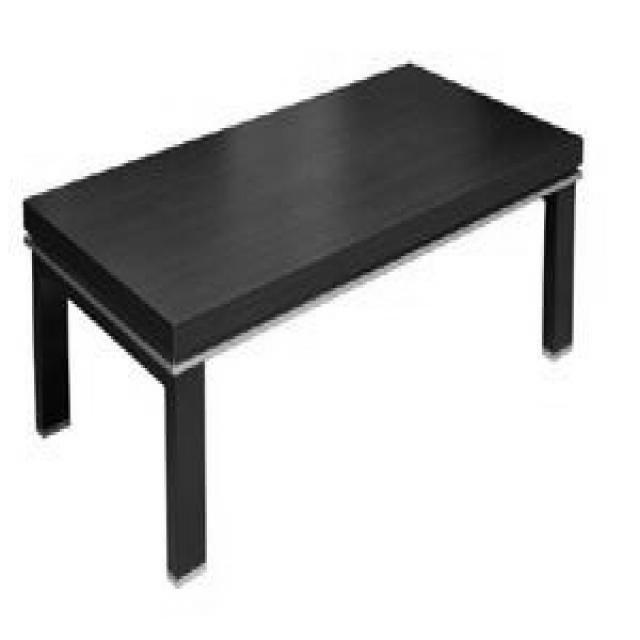table: (19, 56, 584, 586)
